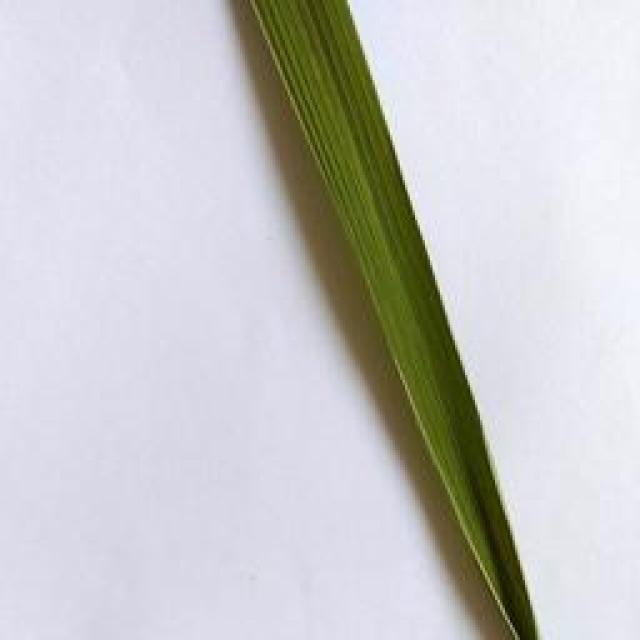Healthy-Plant: (239, 0, 545, 640)
